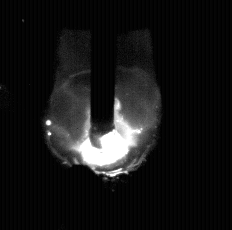arame: (91, 0, 115, 148)
poca: (48, 0, 157, 230)
